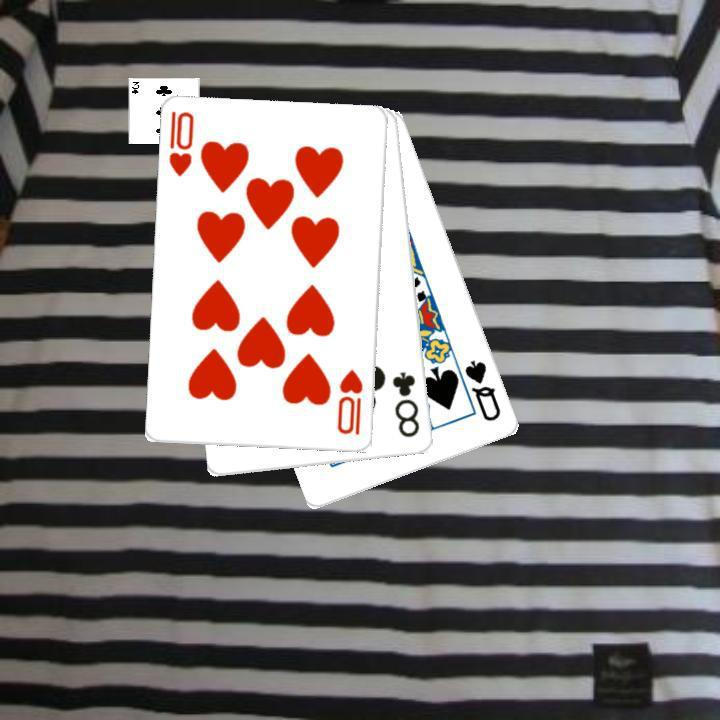10: (333, 366, 366, 437), (164, 108, 197, 179)
8: (388, 368, 422, 440)
Q: (461, 355, 503, 424)
